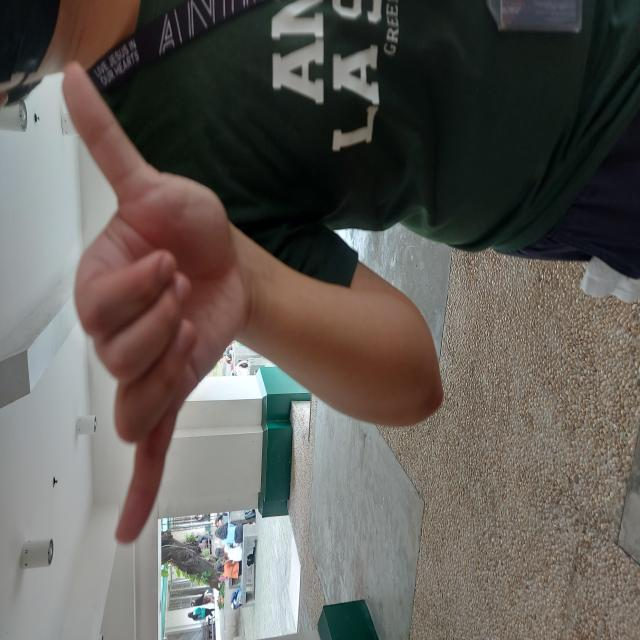Y: (94, 61, 585, 248)
